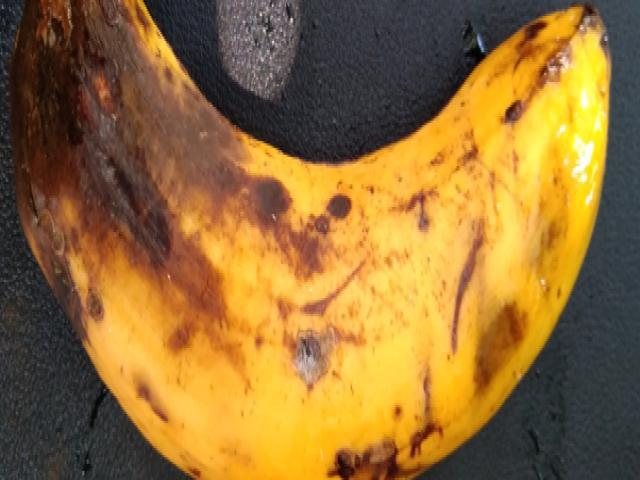rotten: (0, 0, 614, 476)
